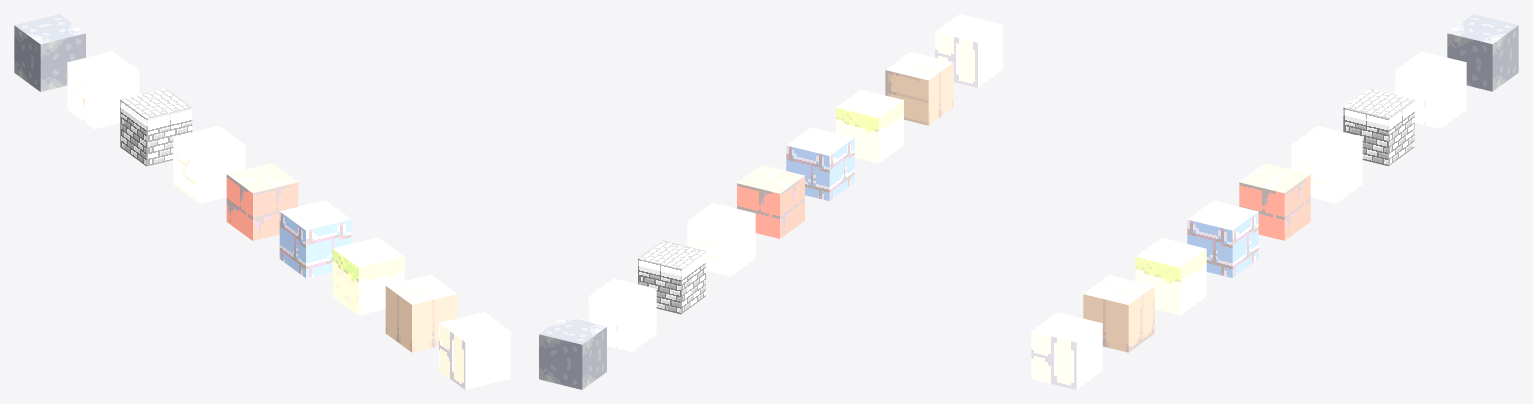
Rendered from mapblocks.glb.
3 views of the same model, side by side, from view 1: azimuth 30°, elevation 25°; view 2: azimuth 150°, elevation 25°; view 3: azimuth 330°, elevation 25° (orthographic). The views are drawn at different scales.
Visible parts, largest first — view 1: Cube, Cube.002, Cube.005, Cube.001, Cube.007, Cube.003, Cube.004, Cube.006, Cube.008; view 2: Cube.008, Cube.003, Cube.007, Cube.001, Cube.005, Cube.002, Cube.006, Cube, Cube.004; view 3: Cube, Cube.003, Cube.002, Cube.004, Cube.005, Cube.006, Cube.001, Cube.007, Cube.008.
Part boxes in pixels (x1,y1,x2,y2): Cube: (439,312,510,389); Cube.002: (332,237,404,315); Cube.005: (173,126,245,203); Cube.001: (385,274,457,352); Cube.007: (67,51,139,129); Cube.003: (279,200,351,277); Cube.004: (226,163,298,240); Cube.006: (120,88,192,166); Cube.008: (14,14,85,91); Cube.008: (539,316,606,389); Cube.003: (786,127,854,200); Cube.007: (588,278,656,351); Cube.001: (885,52,953,125); Cube.005: (687,203,755,276); Cube.002: (836,89,903,163); Cube.006: (638,240,705,314); Cube: (935,14,1002,87); Cube.004: (737,165,804,238); Cube: (1031,312,1102,389); Cube.003: (1187,200,1258,277); Cube.002: (1135,237,1206,315); Cube.004: (1239,163,1310,240); Cube.005: (1291,126,1362,203); Cube.006: (1343,88,1414,166); Cube.001: (1083,275,1154,352); Cube.007: (1395,51,1466,128); Cube.008: (1447,14,1518,91).
Bounding box in the file's own units: 1.07 × 1.2 × 17.
